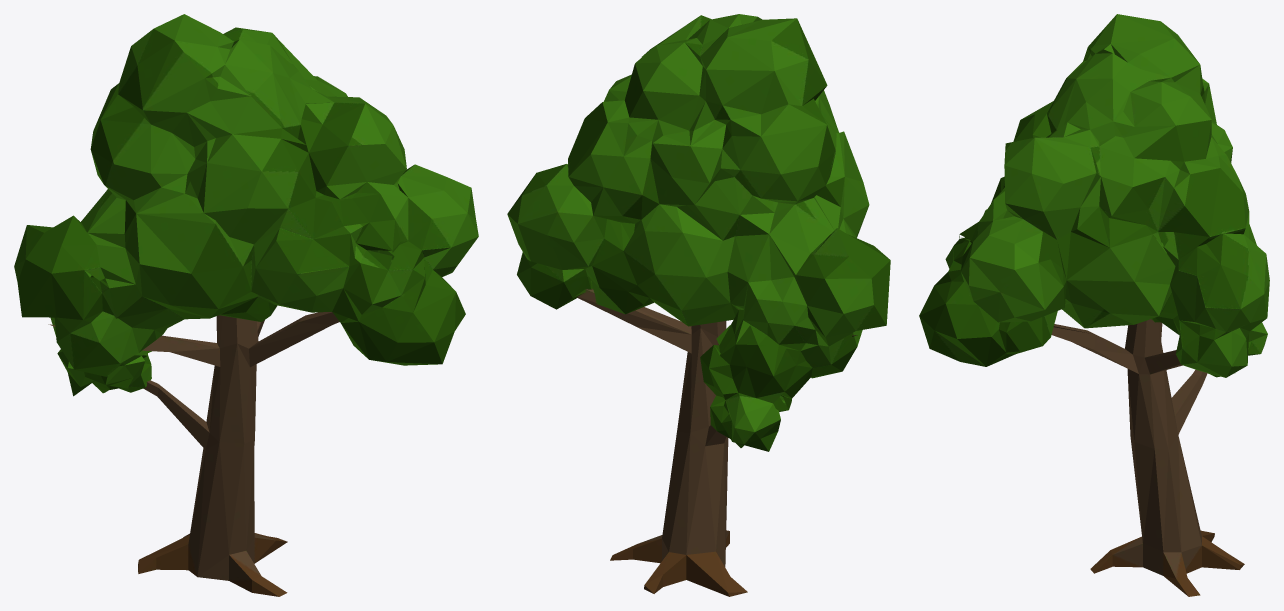
File: tree5.glb
The picture shows the model from 3 angles, left to right: view 1: azimuth 30°, elevation 25°; view 2: azimuth 150°, elevation 25°; view 3: azimuth 270°, elevation 25°; orthographic projection. The views are drawn at different scales.
Parts seen in each view (by area): view 1: geometry_0; view 2: geometry_0; view 3: geometry_0.
Boxes of the visible parts, x1=… form: geometry_0: x1=14, y1=14, x2=478, y2=596; geometry_0: x1=507, y1=14, x2=890, y2=596; geometry_0: x1=919, y1=14, x2=1269, y2=596.
Bounding box in the file's own units: 1.74 × 2.6 × 1.6.
Materials: 1 (1 with a texture image).
